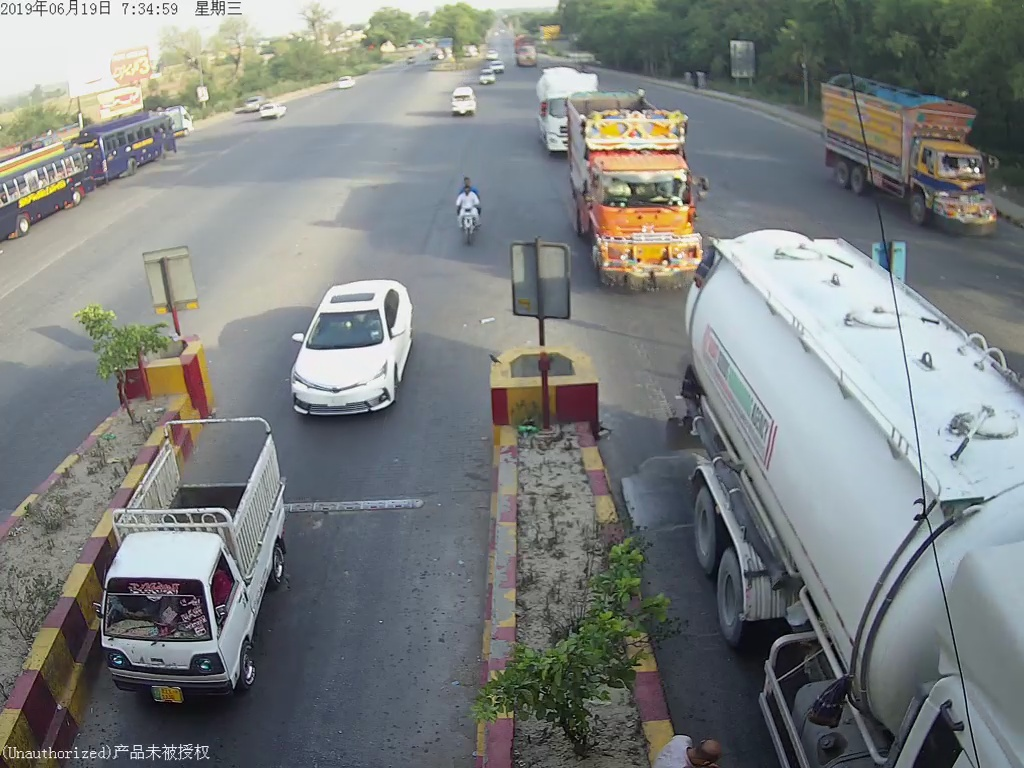Cat-1: (97, 428, 276, 707), (283, 279, 422, 420)
Cat-4: (570, 102, 700, 285)
